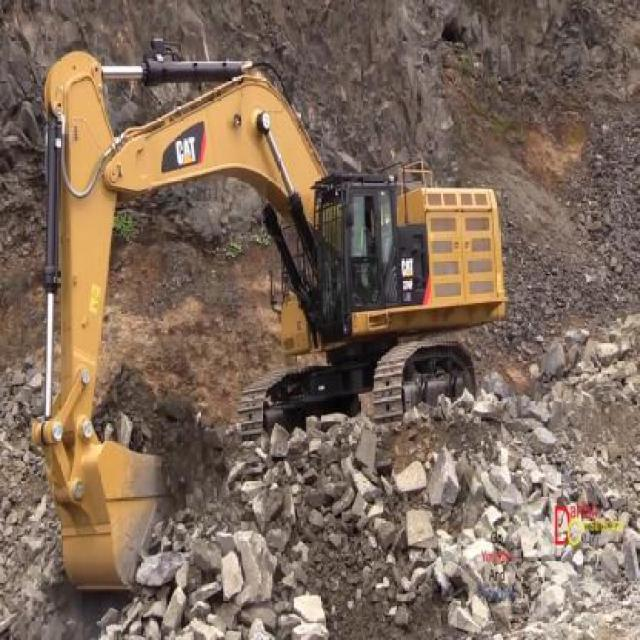Excavator: (30, 37, 504, 595)
